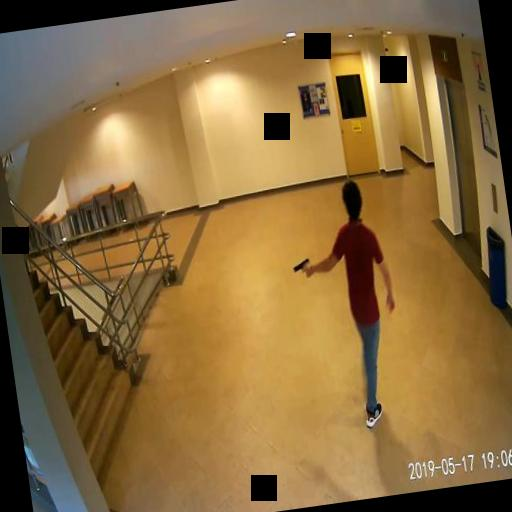Handgun: (291, 258, 310, 277)
